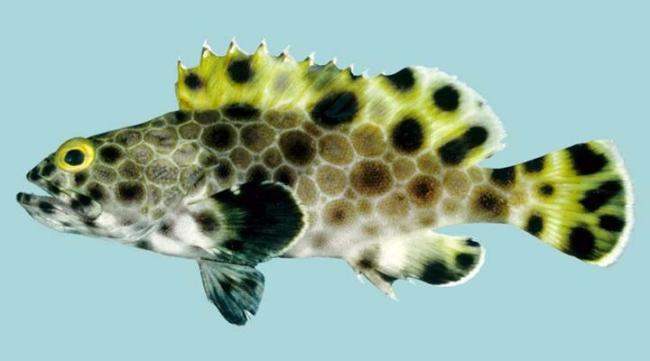fish: (16, 36, 637, 326)
